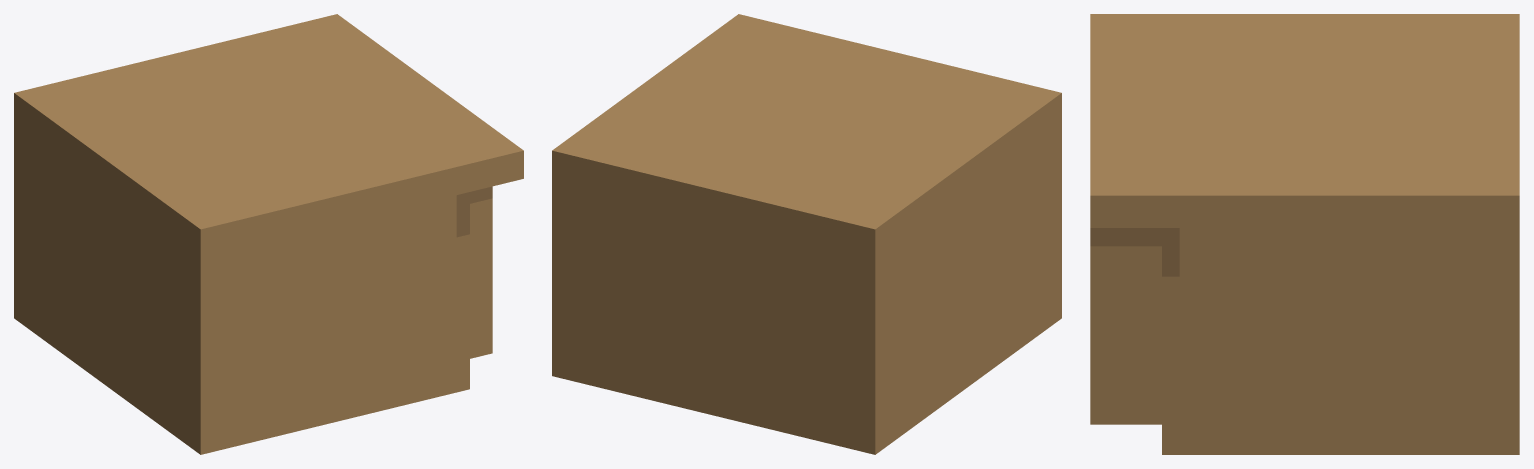
Rendered from memorial-table.vox-3-cookingtable_corner.obj.
The picture shows the model from 3 angles, left to right: view 1: azimuth 30°, elevation 25°; view 2: azimuth 150°, elevation 25°; view 3: azimuth 270°, elevation 25°; orthographic projection. The views are drawn at different scales.
Visible parts, largest first — view 1: cookingtable_corner; view 2: cookingtable_corner; view 3: cookingtable_corner.
Part boxes in pixels (x1,y1,x2,y2): cookingtable_corner: [14, 14, 523, 454]; cookingtable_corner: [552, 14, 1061, 454]; cookingtable_corner: [1090, 14, 1519, 454].
Bounding box in the file's own units: 2.4 × 1.6 × 2.4.
Materials: 1 (1 with a texture image).
